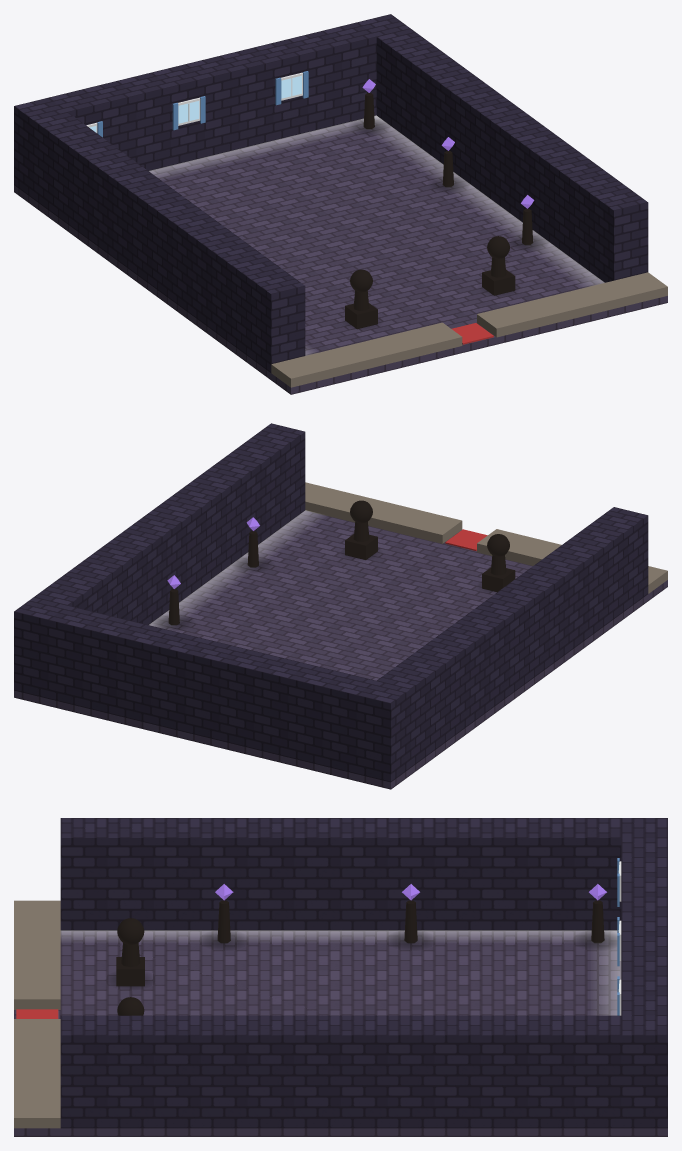
File: ginasio6.glb
The picture shows the model from 3 angles, top to bottom: view 1: azimuth 30°, elevation 25°; view 2: azimuth 150°, elevation 25°; view 3: azimuth 270°, elevation 25°; orthographic projection. The views are drawn at different scales.
Visible parts, largest first — view 1: malha__semsombra (×46), malha__contorno (×2); view 2: malha__semsombra (×42), malha__contorno (×2); view 3: malha__semsombra (×46), malha__contorno (×5).
Boxes of the visible parts, bbox=[...] form: malha__semsombra (×46): bbox=[14, 14, 667, 394]; malha__contorno (×2): bbox=[345, 269, 515, 329]; malha__semsombra (×42): bbox=[14, 423, 667, 789]; malha__contorno (×2): bbox=[345, 534, 515, 592]; malha__semsombra (×46): bbox=[14, 818, 667, 1136]; malha__contorno (×5): bbox=[116, 900, 604, 986].
Bounding box in the file's own units: 11 × 2.4 × 14.
Materials: 29 (11 with a texture image).
